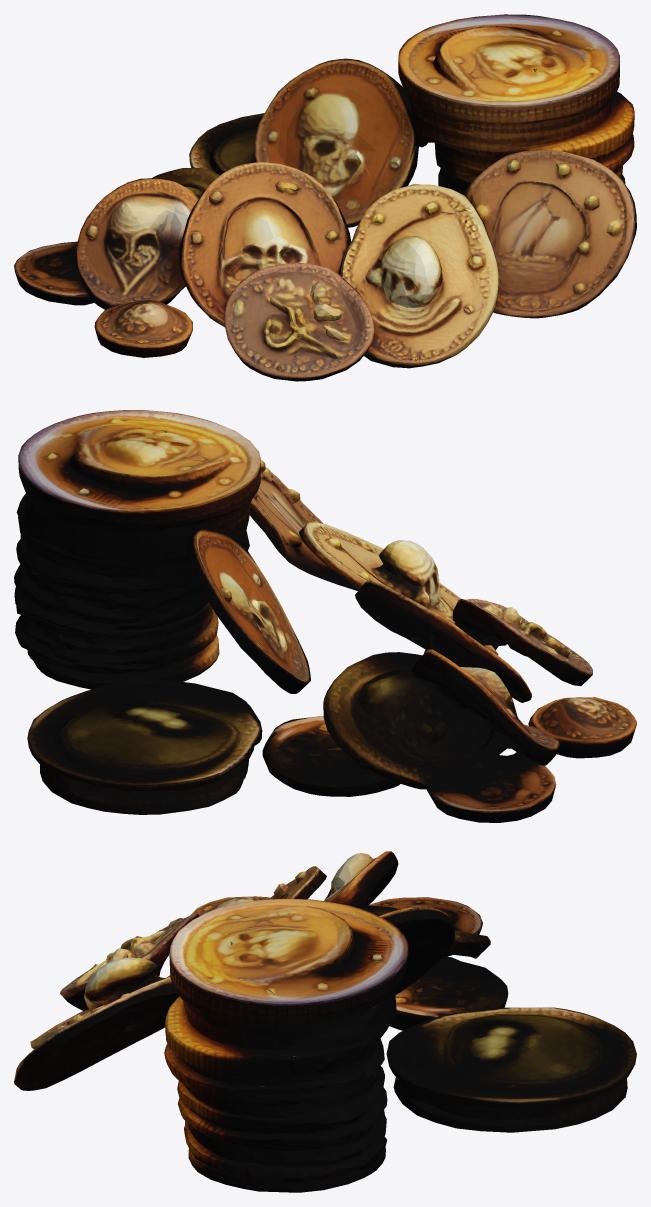
The model's file is wooden-pirate-coins-3d.jpeg.glb.
3 views of the same model, one above another, from view 1: azimuth 30°, elevation 25°; view 2: azimuth 150°, elevation 25°; view 3: azimuth 270°, elevation 25° (orthographic). The views are drawn at different scales.
Parts seen in each view (by area): view 1: world; view 2: world; view 3: world.
Boxes of the visible parts, x1=… form: world: x1=14, y1=14, x2=636, y2=381; world: x1=14, y1=410, x2=636, y2=822; world: x1=14, y1=851, x2=636, y2=1192.
Bounding box in the file's own units: 0.9997 × 0.357 × 0.929.
1 material, 1 textured.
